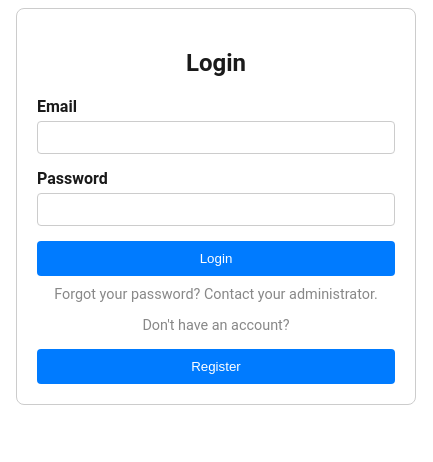
Test: Login › shows fallback error message when no error detail
Type "a@b.com" into the field labelled "Email".
click(216, 137); type("a@b.com")  # box left=37, top=121, right=395, bottom=154
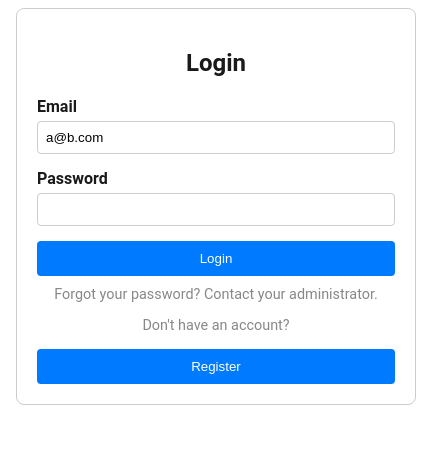
Type "x" into the password field labelled "Password".
click(216, 209); type("x")  # box left=37, top=193, right=395, bottom=226
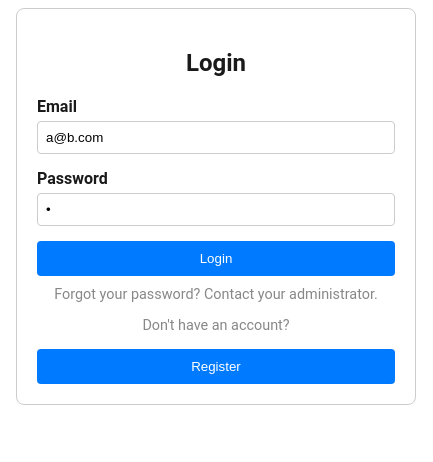
Click the button "Login".
click(216, 258)  # box left=37, top=241, right=395, bottom=276
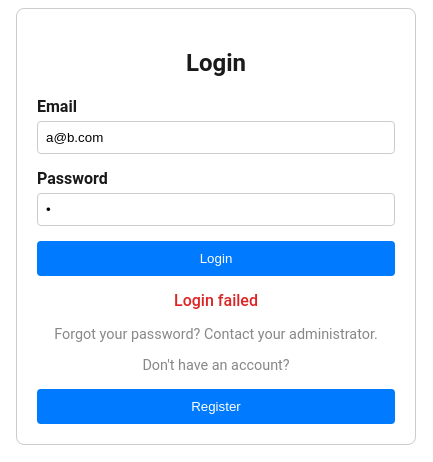
Check: the text "Login failed" is shown, box left=174, top=291, right=258, bottom=310
